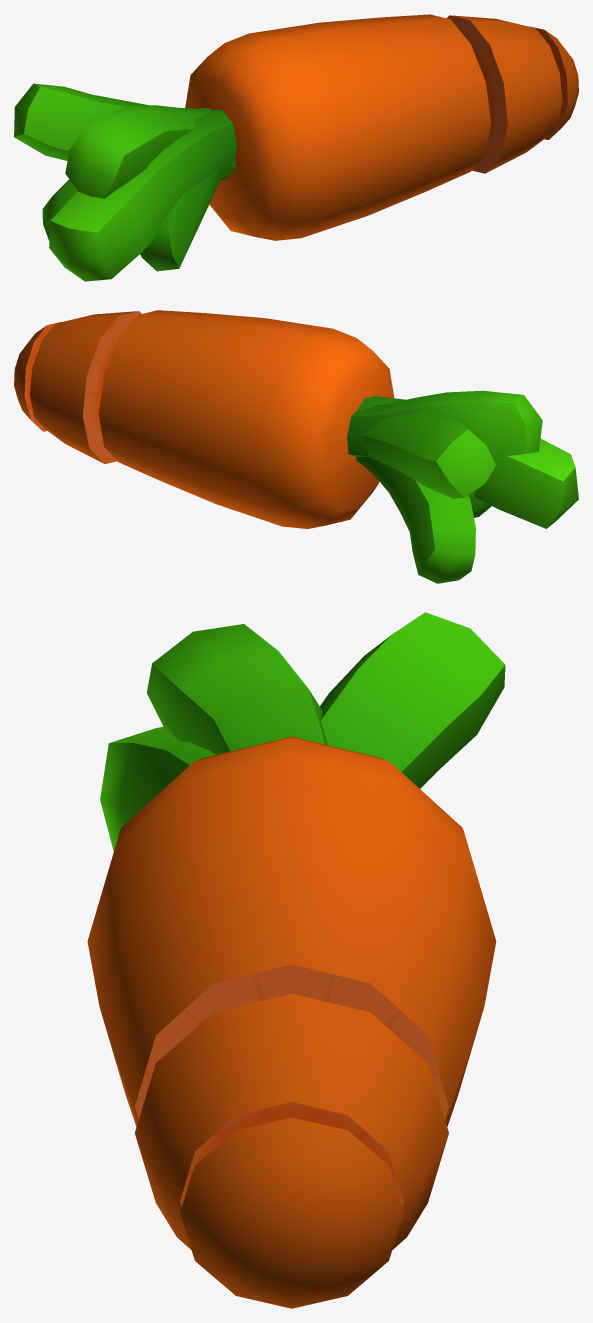
The model's file is Carrot_S2.fbx.
The picture shows the model from 3 angles, top to bottom: view 1: azimuth 30°, elevation 25°; view 2: azimuth 150°, elevation 25°; view 3: azimuth 270°, elevation 25°; orthographic projection. The views are drawn at different scales.
Parts seen in each view (by area): view 1: Carrot_S2; view 2: Carrot_S2; view 3: Carrot_S2.
Boxes of the visible parts, x1,y1,x2,y2 form: Carrot_S2: (14, 14, 578, 281); Carrot_S2: (14, 310, 578, 583); Carrot_S2: (87, 612, 505, 1308).
Size of the model in its own units: 108 by 36.65 by 37.47.
